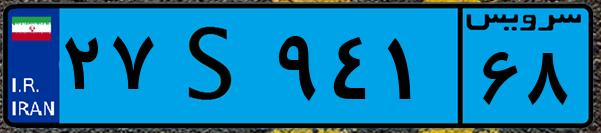1: (385, 28, 445, 110)
2: (57, 26, 110, 100)
4: (330, 28, 385, 110)
6: (475, 38, 525, 113)
7: (110, 28, 158, 98)
8: (525, 38, 570, 115)
9: (270, 28, 330, 110)
S: (158, 12, 270, 120)
